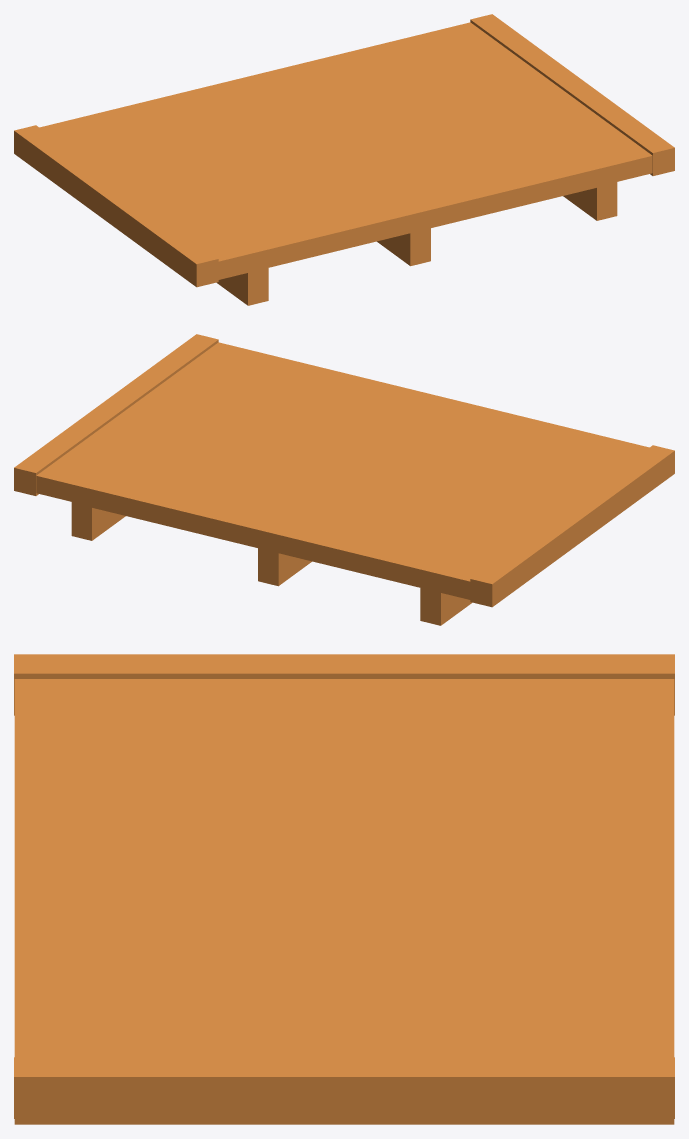
The model's file is Holzpalette3D.dae.
The picture shows the model from 3 angles, top to bottom: view 1: azimuth 30°, elevation 25°; view 2: azimuth 150°, elevation 25°; view 3: azimuth 270°, elevation 25°; orthographic projection. The views are drawn at different scales.
Parts seen in each view (by area): view 1: node0; view 2: node0; view 3: node0.
Part boxes in pixels (bbox=[...]): node0: bbox=[14, 14, 674, 305]; node0: bbox=[14, 334, 674, 625]; node0: bbox=[14, 654, 674, 1124].
Size of the model in its own units: 1.52 by 1 by 0.1653.
